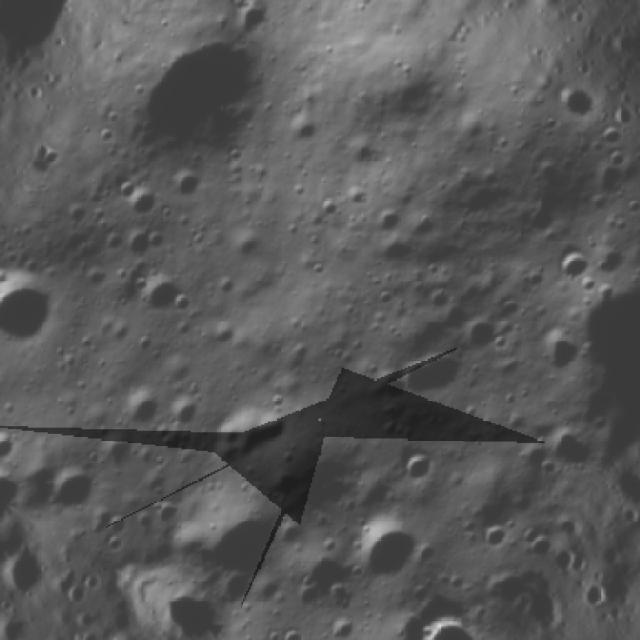crater: (104, 0, 316, 197), (182, 480, 296, 592), (338, 498, 438, 598), (205, 388, 304, 480), (385, 329, 472, 416), (0, 260, 66, 362), (32, 454, 102, 528), (537, 417, 606, 486), (390, 595, 488, 640), (130, 263, 192, 326), (472, 557, 534, 618), (532, 319, 592, 381), (388, 436, 447, 495), (368, 223, 426, 280), (546, 236, 602, 295), (88, 426, 144, 482), (114, 376, 169, 432), (455, 307, 510, 362), (281, 104, 333, 159), (158, 158, 210, 212), (222, 221, 272, 273), (424, 294, 474, 344), (113, 216, 162, 267), (119, 177, 168, 228), (160, 386, 208, 436), (0, 449, 35, 512), (342, 128, 388, 175), (515, 522, 560, 570), (470, 512, 513, 560), (142, 491, 187, 535), (231, 0, 277, 42), (204, 311, 245, 354), (360, 279, 402, 319), (416, 278, 456, 320), (207, 268, 247, 307), (315, 607, 361, 640), (309, 186, 348, 223), (593, 144, 632, 181), (162, 283, 198, 322), (568, 267, 604, 305), (140, 221, 175, 257), (0, 422, 25, 472), (100, 507, 134, 541), (271, 617, 317, 640), (595, 119, 627, 152), (99, 530, 132, 561), (128, 327, 160, 358), (282, 637, 329, 640)
